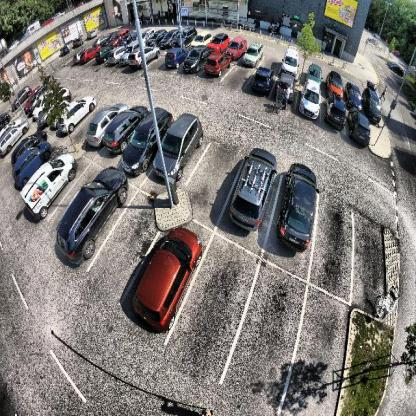free: (190, 273, 239, 367), (240, 292, 288, 387), (301, 298, 346, 390), (317, 197, 356, 272), (191, 143, 228, 207), (106, 212, 144, 272), (356, 233, 385, 298), (54, 182, 75, 212), (75, 117, 93, 136)
occupied: (133, 223, 206, 328), (55, 182, 118, 266), (280, 152, 316, 262), (230, 147, 276, 227), (162, 113, 204, 178), (28, 165, 68, 218), (128, 112, 161, 175), (19, 146, 52, 186), (107, 108, 135, 155), (86, 102, 114, 148), (9, 132, 44, 156)
